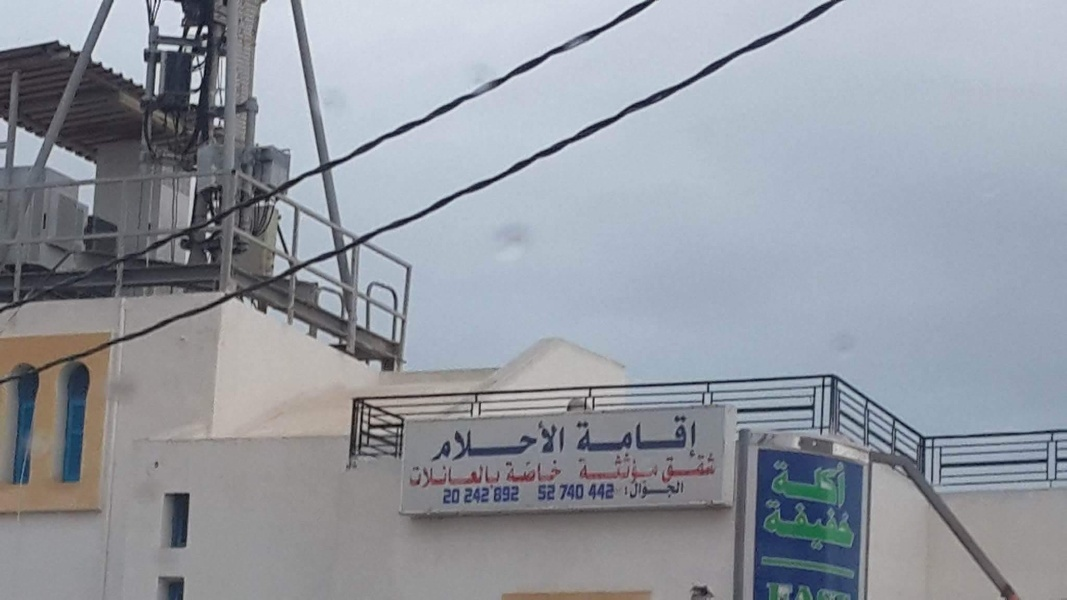text: (769, 497, 784, 556), (785, 497, 800, 556), (801, 497, 816, 556), (817, 497, 832, 556), (833, 497, 848, 556), (833, 459, 849, 508), (785, 459, 800, 508), (801, 459, 816, 508), (817, 459, 832, 508), (449, 419, 464, 465), (465, 419, 480, 465), (481, 419, 496, 465), (497, 419, 512, 465), (513, 419, 528, 465), (529, 419, 544, 465), (545, 419, 560, 465), (577, 413, 592, 458), (593, 413, 608, 458), (609, 413, 624, 458), (625, 413, 640, 458), (641, 413, 656, 458), (657, 413, 672, 458), (673, 413, 688, 458), (849, 497, 860, 556), (434, 419, 448, 465), (689, 413, 701, 458), (673, 451, 688, 485), (689, 451, 704, 485), (593, 450, 608, 484), (609, 450, 624, 484), (625, 450, 640, 484), (641, 450, 656, 484), (774, 459, 784, 508), (578, 450, 592, 484), (705, 451, 718, 485), (513, 457, 528, 486), (529, 457, 544, 486), (545, 457, 560, 486), (417, 464, 432, 490), (433, 464, 448, 490), (449, 464, 464, 490), (465, 464, 480, 490), (481, 464, 496, 490), (769, 578, 784, 600), (785, 578, 800, 600), (801, 578, 816, 600), (817, 578, 832, 600), (833, 578, 848, 600), (663, 451, 672, 485), (593, 482, 608, 502), (625, 482, 640, 501), (641, 482, 656, 501), (657, 482, 672, 501), (497, 485, 512, 504), (561, 419, 567, 465), (465, 487, 480, 505), (561, 483, 576, 501), (673, 482, 686, 501), (764, 497, 768, 556), (449, 487, 462, 505), (545, 484, 556, 502), (409, 464, 416, 490), (506, 457, 512, 486), (481, 487, 490, 505), (497, 464, 503, 490), (577, 483, 585, 501), (609, 482, 616, 502), (657, 450, 661, 484), (513, 485, 520, 504), (538, 484, 544, 502), (443, 487, 448, 505), (588, 482, 592, 502), (849, 578, 852, 600), (561, 457, 563, 486), (766, 578, 768, 600), (494, 485, 496, 504), (558, 483, 560, 501)
